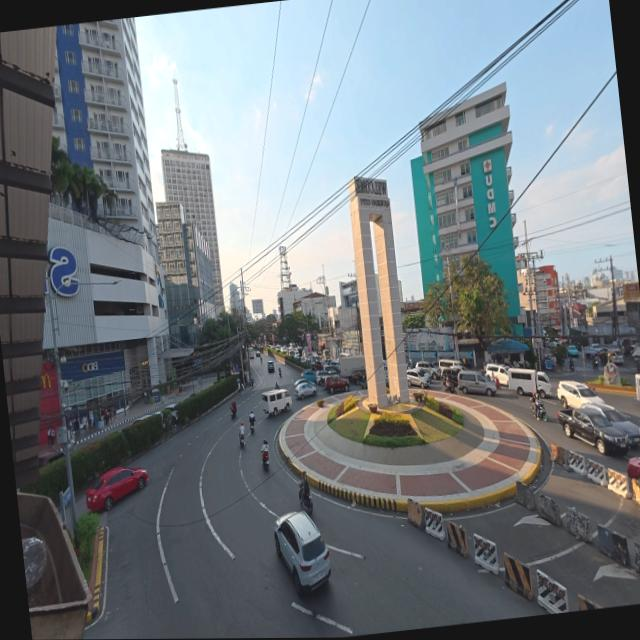car: (80, 463, 148, 512), (290, 378, 315, 400)
trucks: (560, 395, 640, 463)
vans: (453, 366, 497, 398)
